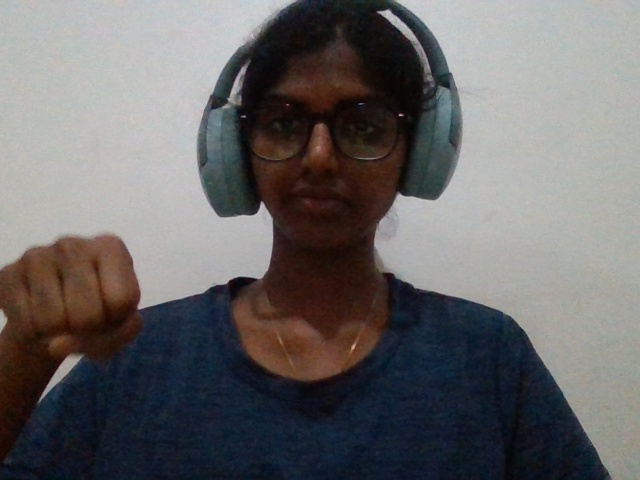Yes: (1, 215, 182, 392)
